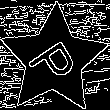P_NE: (24, 30, 84, 89)
